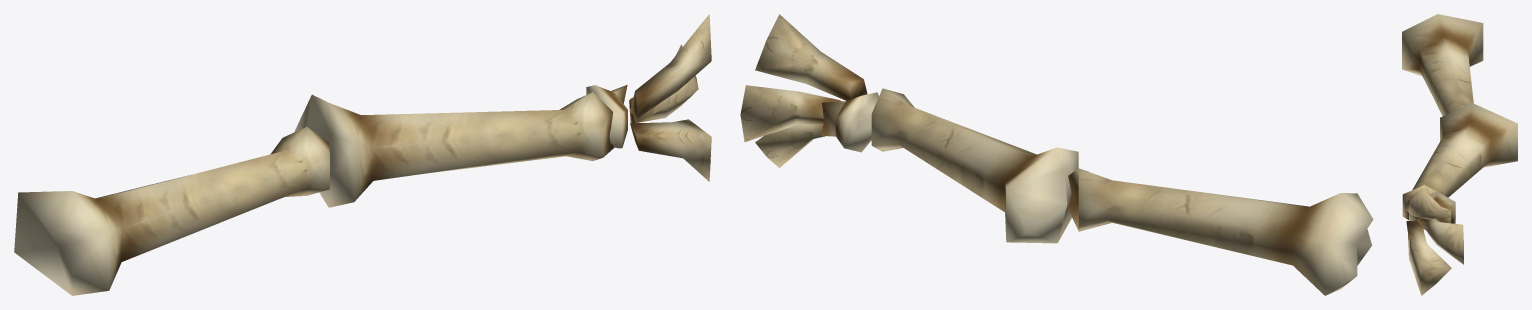
File: magnataur_legfull02.obj
3 views of the same model, side by side, from view 1: azimuth 30°, elevation 25°; view 2: azimuth 150°, elevation 25°; view 3: azimuth 270°, elevation 25° (orthographic). The views are drawn at different scales.
Parts seen in each view (by area): view 1: magnataur_legfull02; view 2: magnataur_legfull02; view 3: magnataur_legfull02.
Part boxes in pixels (x1,y1,x2,y2): magnataur_legfull02: (14,14,711,295); magnataur_legfull02: (740,14,1373,295); magnataur_legfull02: (1402,14,1517,295).
Bounding box in the file's own units: 17.99 × 4.29 × 4.18.
Materials: 1 (1 with a texture image).
